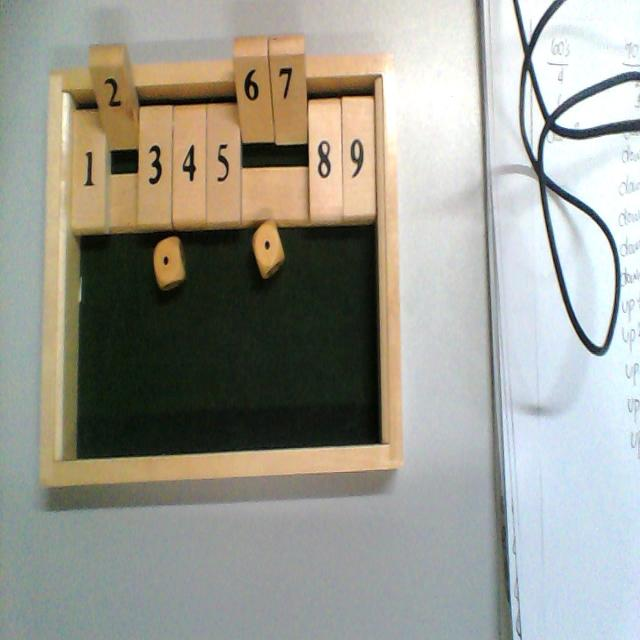1: (248, 211, 292, 282), (150, 231, 191, 295)
O2: (90, 44, 140, 230)
O6: (232, 37, 276, 225)
O7: (268, 34, 310, 225)
